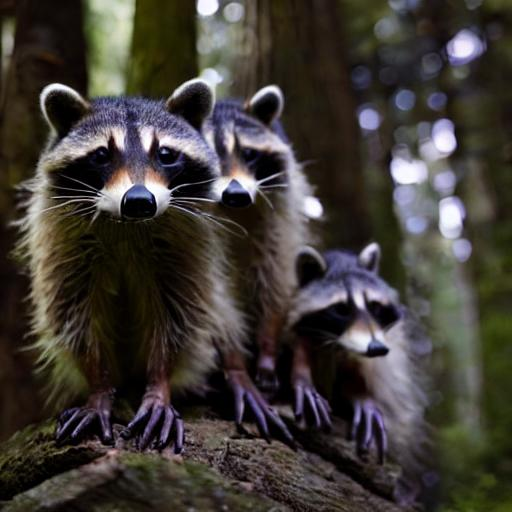raccoon: (16, 68, 234, 376), (203, 84, 313, 343), (282, 240, 417, 408)
